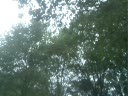window: (29, 0, 128, 96)
